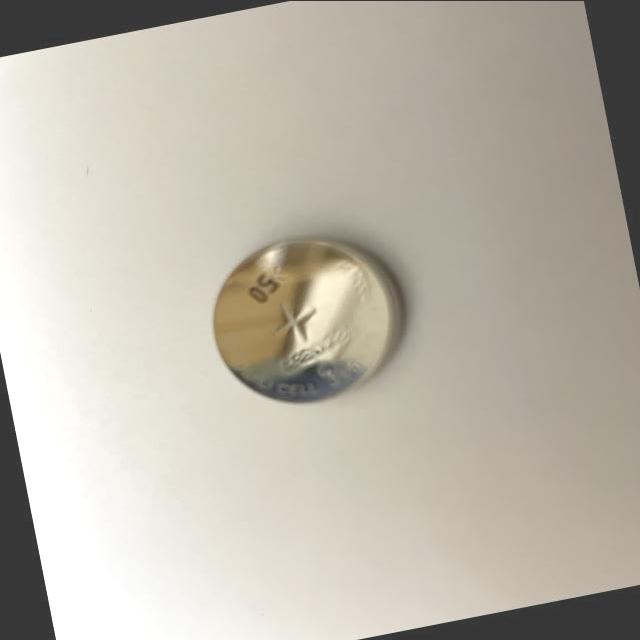COIN: (197, 218, 421, 420)
